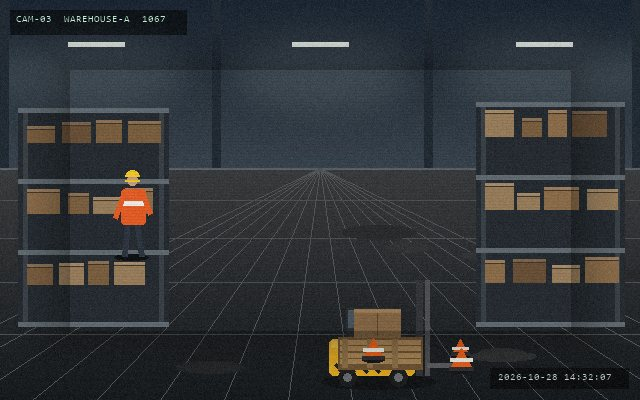cone: (448, 346, 474, 373), (361, 336, 385, 362), (450, 337, 470, 358)
forklift: (325, 278, 459, 389)
pallet: (336, 335, 424, 371)
person: (113, 168, 152, 259)
shelf: (476, 102, 624, 322), (18, 108, 168, 322)
